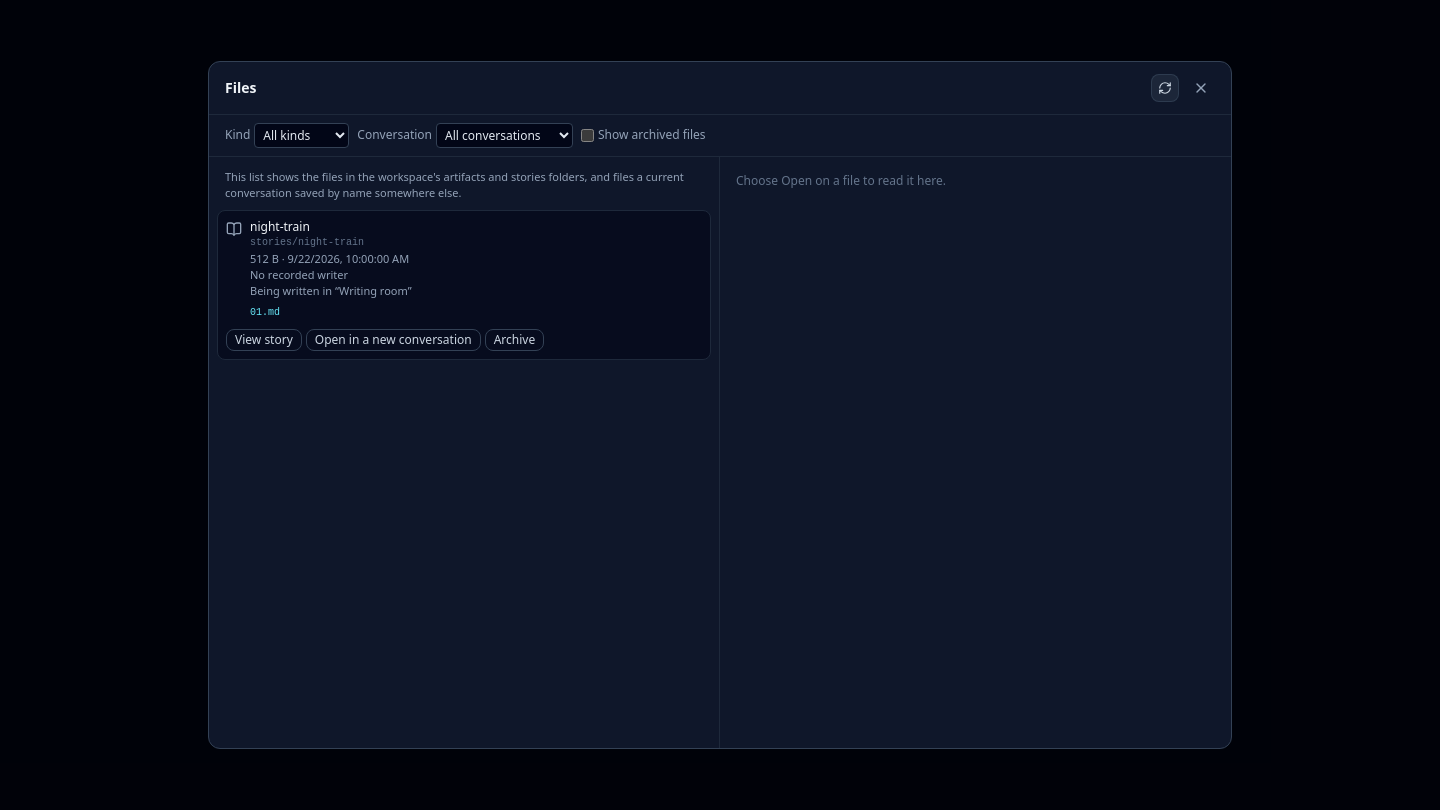
ArtifactLibrary, the Files screen (#1554) › a story a conversation is writing shows the reason, and going ahead releases the writer
Click the button with test id "files-archive" at point(514, 340), box [485,329,544,351]
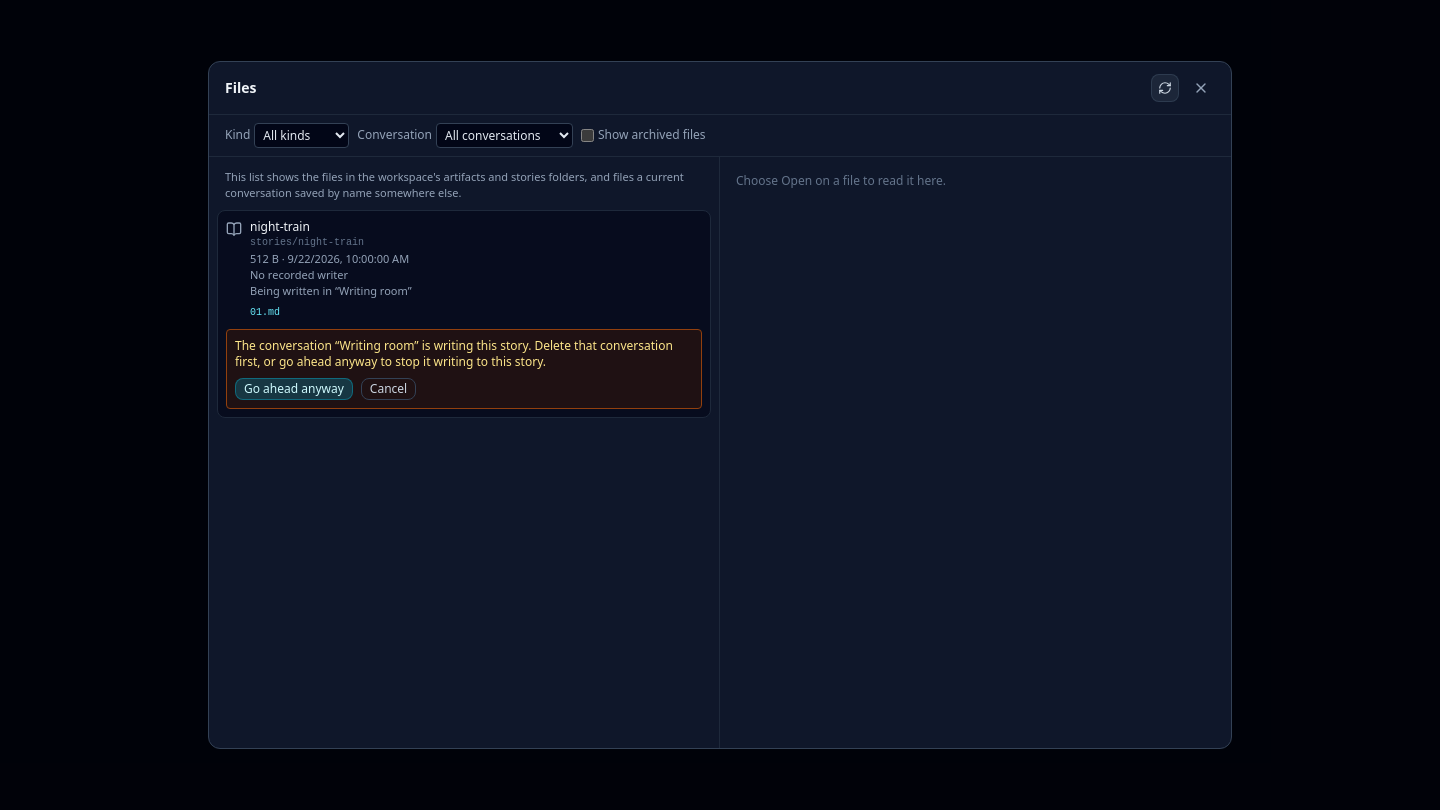
Result: the text "The conversation “Writing room” is writing this story. Delete that conversation first, or go ahead anyway to stop it wri" is shown at [235,337,673,370]
Click the button with test id "files-go-ahead" at point(294, 389), box [235,378,353,400]
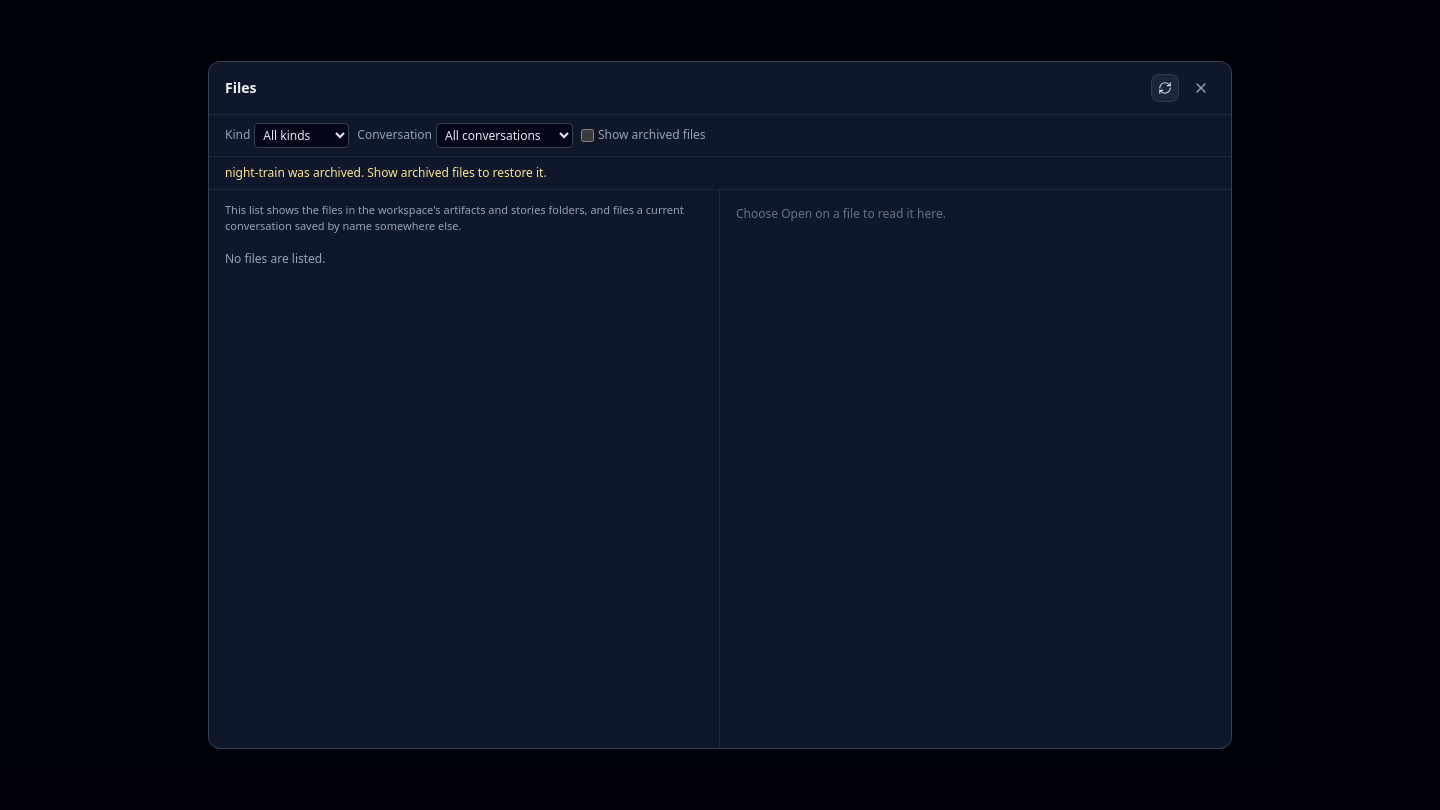
Result: the message with test id "files-notice" shows "night-train was archived." at [225,164,547,181]
